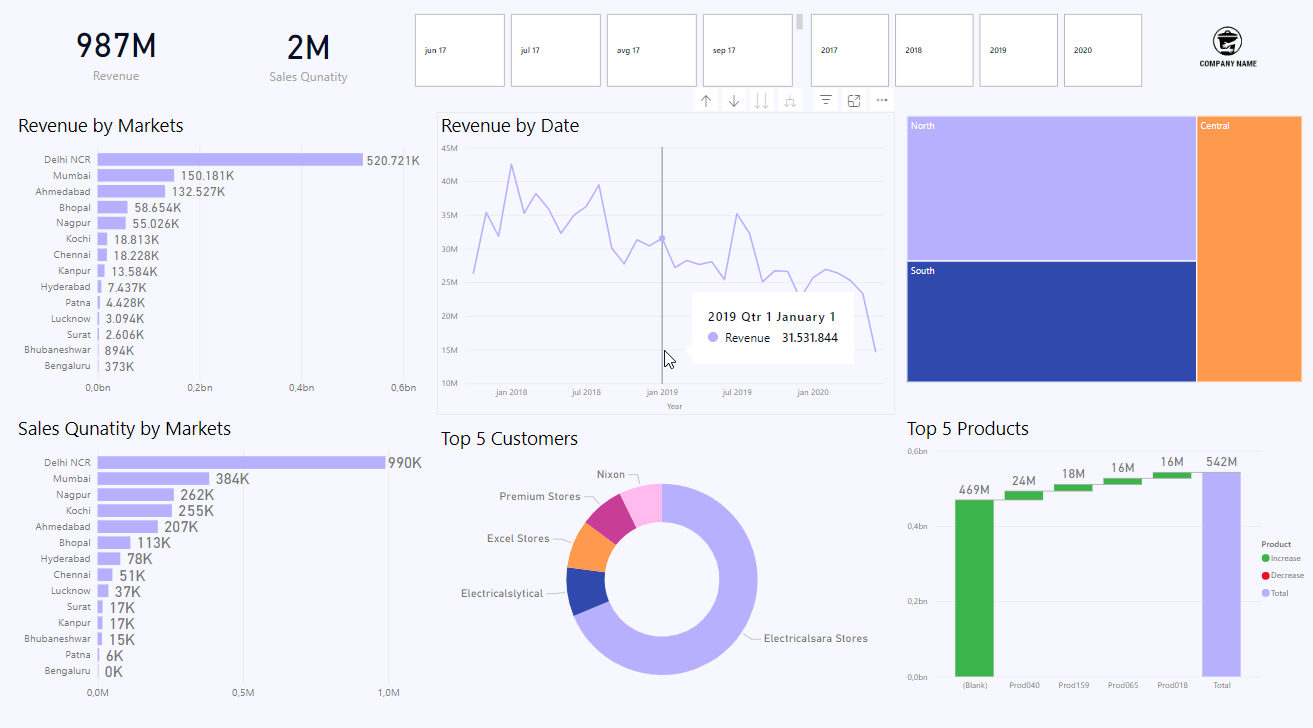

What the dashboard file says about the page in this screenshot:
{"tool":"powerbi","page":{"name":"Sales Insights","canvas":[1700,950],"ordinal":0},"visuals":[{"type":"card","fields":{"Values":["measures (2).Revenue"]},"box":[19.4,0,263.5,140.8],"z":0},{"type":"card","fields":{"Values":["measures (2).Sales Qunatity"]},"box":[270,0,259.7,144.7],"z":1000},{"type":"barChart","title":"Revenue by Markets","fields":{"Y":["measures (2).Revenue"],"Category":["sales markets.markets_name"]},"box":[19.4,151.1,546.4,374.6],"z":2000},{"type":"barChart","title":"Sales Qunatity by Markets","fields":{"Y":["measures (2).Sales Qunatity"],"Category":["sales markets.markets_name"]},"box":[19.4,542.6,546.4,377.2],"z":3000},{"type":"advancedSlicerVisual","fields":{"Values":["sales date.year"]},"box":[1043.8,19.4,441.8,104.6],"z":4000},{"type":"advancedSlicerVisual","fields":{"Values":["sales date.cy_date"]},"box":[532.2,19.4,511.6,104.6],"z":5000},{"type":"donutChart","title":"Top 5 Customers","fields":{"Category":["sales customers.custmer_name"],"Y":["measures (2).Revenue"]},"box":[565.8,555.5,581.3,366.9],"z":6000},{"type":"waterfallChart","title":"Top 5 Products","fields":{"Category":["sales products.product_code"],"Y":["measures (2).Revenue"]},"box":[1167.8,542.6,532.2,366.9],"z":7000},{"type":"lineChart","title":"Revenue by Date","fields":{"Y":["measures (2).Revenue"],"Category":["sales date.cy_date.Variation.Date Hierarchy.Year","sales date.cy_date.Variation.Date Hierarchy.Quarter","sales date.cy_date.Variation.Date Hierarchy.Month","sales date.cy_date.Variation.Date Hierarchy.Day"]},"box":[565.8,151.1,591.6,391.4],"z":8000},{"type":"treemap","fields":{"Values":["CountNonNull(sales markets.zone)"],"Group":["sales markets.zone"]},"box":[1167.8,151.1,520.6,354],"z":9000},{"type":"image","box":[1485.6,19.4,202.8,104.6],"z":10000}]}

Visuals, with their boxes in screenshot pixels (x1, y1, x2, y2), scaled from the page's 1700x950 canvas onto the 1313x728 screenshot:
card - measures (2).Revenue: Rect(15, 0, 218, 108)
card - measures (2).Sales Qunatity: Rect(209, 0, 409, 111)
"Revenue by Markets" barChart: Rect(15, 116, 437, 403)
"Sales Qunatity by Markets" barChart: Rect(15, 416, 437, 705)
advancedSlicerVisual - sales date.year: Rect(806, 15, 1147, 95)
advancedSlicerVisual - sales date.cy_date: Rect(411, 15, 806, 95)
"Top 5 Customers" donutChart: Rect(437, 426, 886, 707)
"Top 5 Products" waterfallChart: Rect(902, 416, 1312, 697)
"Revenue by Date" lineChart: Rect(437, 116, 894, 416)
treemap - CountNonNull(sales markets.zone) x sales markets.zone: Rect(902, 116, 1304, 387)
image: Rect(1147, 15, 1304, 95)
